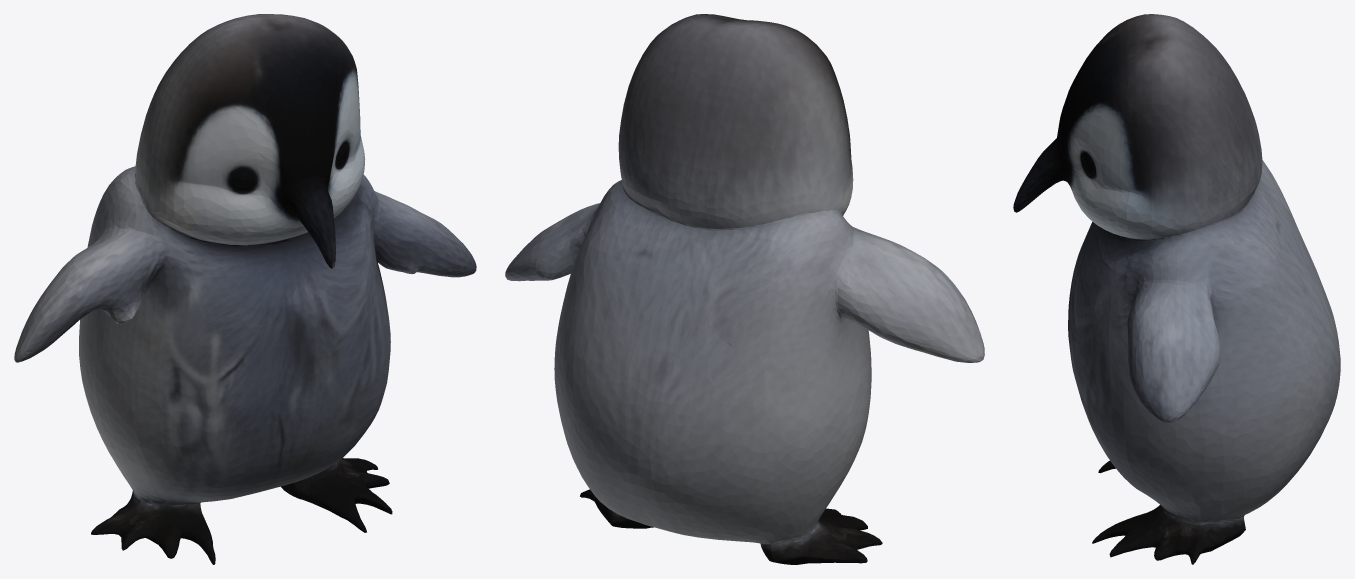
File: penguin.glb
3 renders of one model, left to right at view 1: azimuth 30°, elevation 25°; view 2: azimuth 150°, elevation 25°; view 3: azimuth 270°, elevation 25°, orthographic. The views are drawn at different scales.
Parts seen in each view (by area): view 1: world; view 2: world; view 3: world.
Part boxes in pixels (x1=…): world: x1=14, y1=14, x2=476, y2=564; world: x1=505, y1=14, x2=984, y2=564; world: x1=1013, y1=14, x2=1340, y2=564.
Bounding box in the file's own units: 0.9671 × 0.9991 × 0.6169.
Materials: 1 (1 with a texture image).
